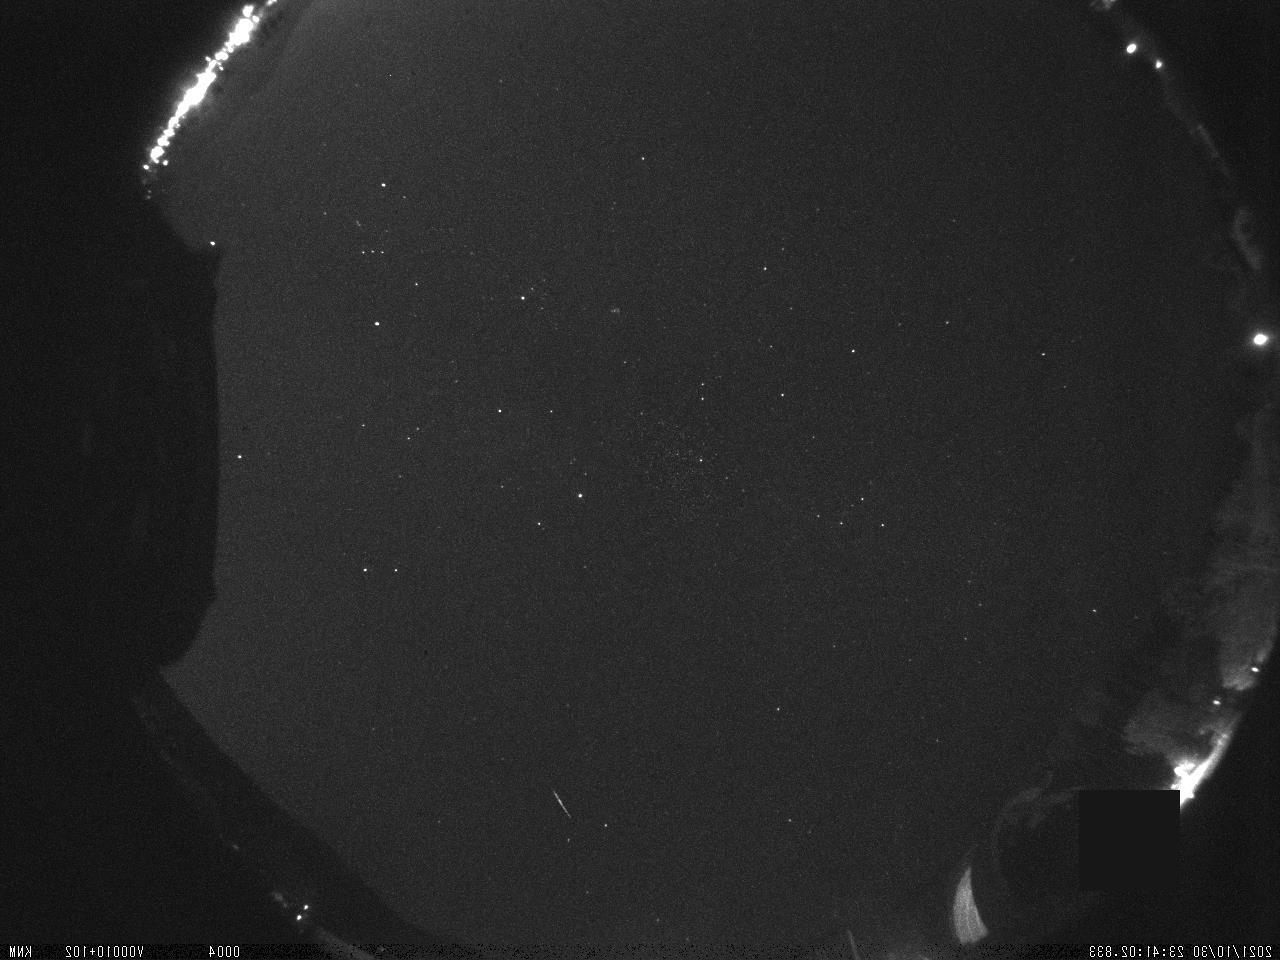meteor: (531, 775, 594, 834)
